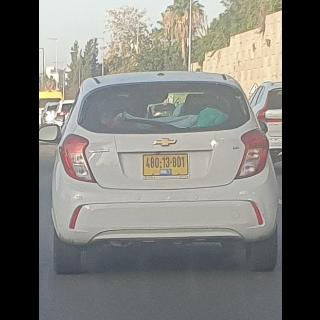LicensePlate: (143, 155, 187, 168)
